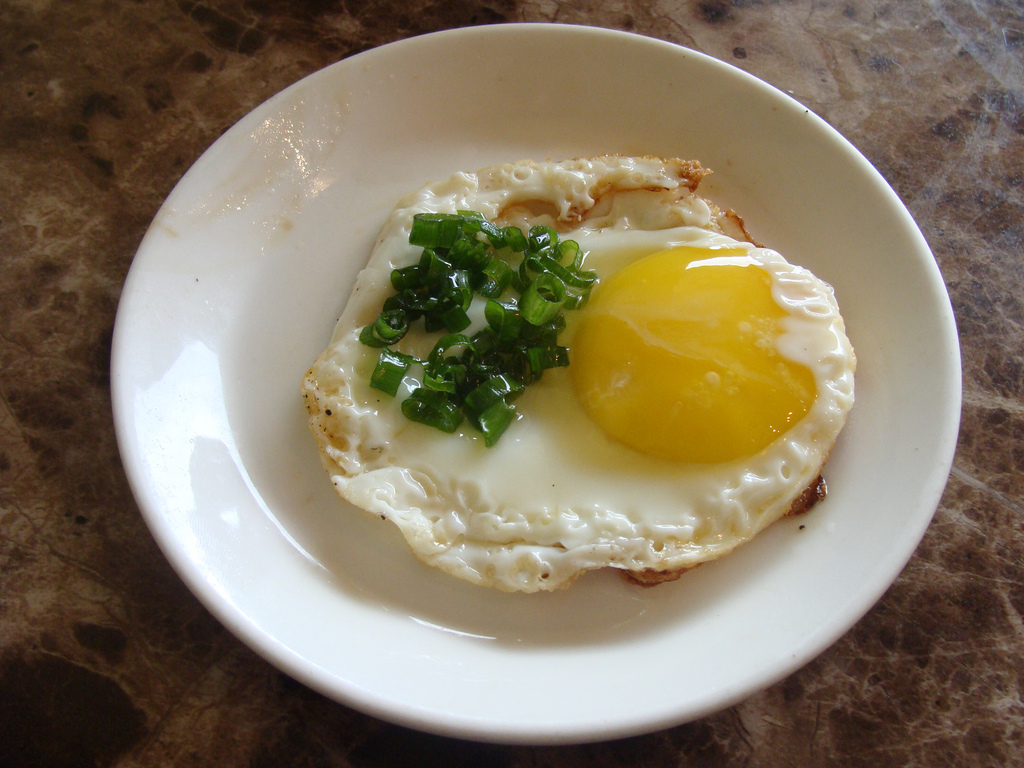fried egg: (288, 145, 864, 591)
